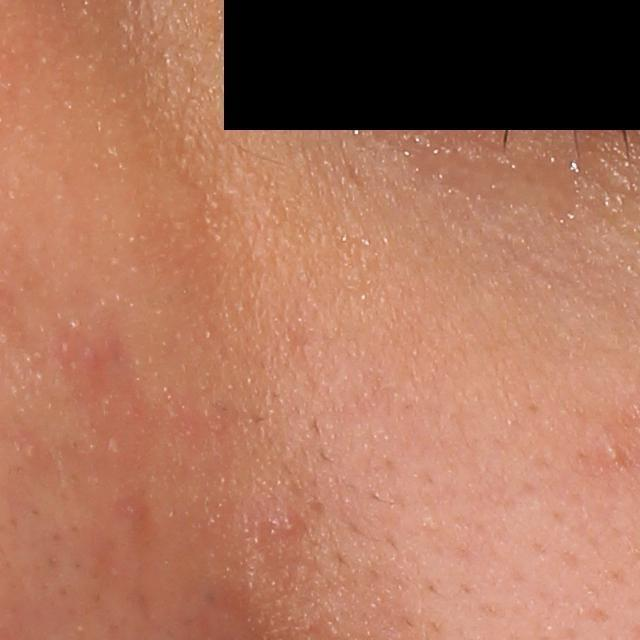papule: (276, 505, 305, 536)
